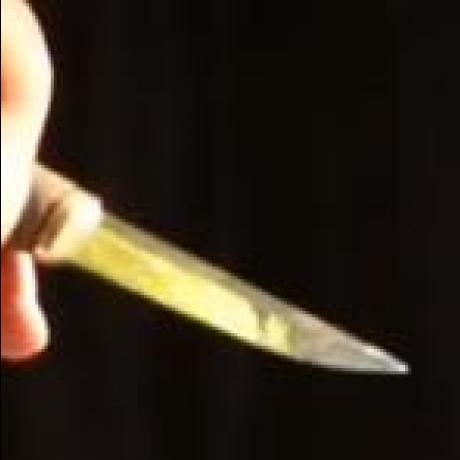weapon: (18, 162, 408, 383)
